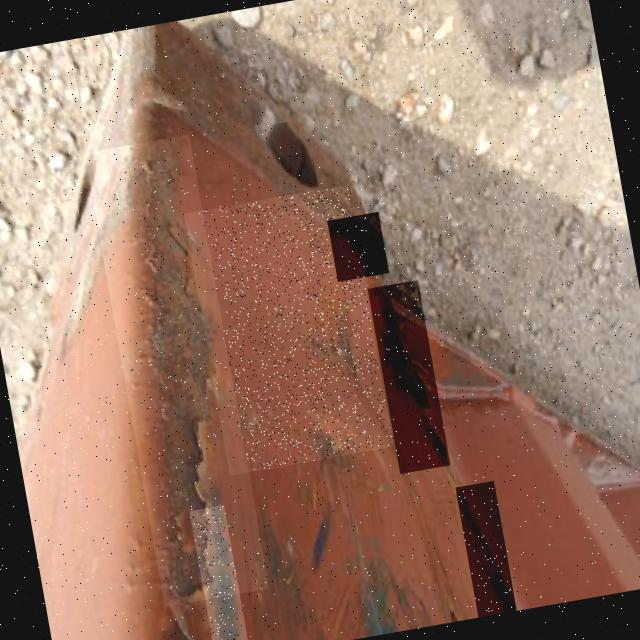Minor-Dent: (184, 184, 394, 475)
Rust: (85, 134, 269, 606), (367, 280, 450, 474), (455, 480, 516, 617), (189, 504, 250, 640), (327, 212, 389, 282)
